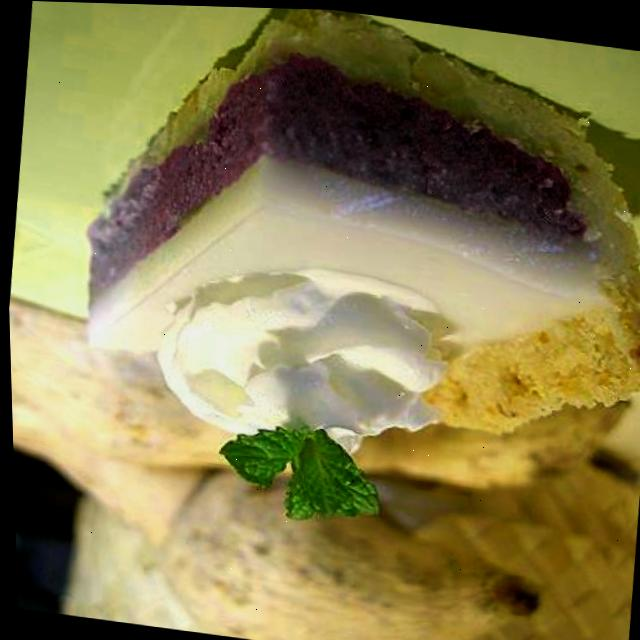蛋糕甜品: (37, 1, 640, 576)
